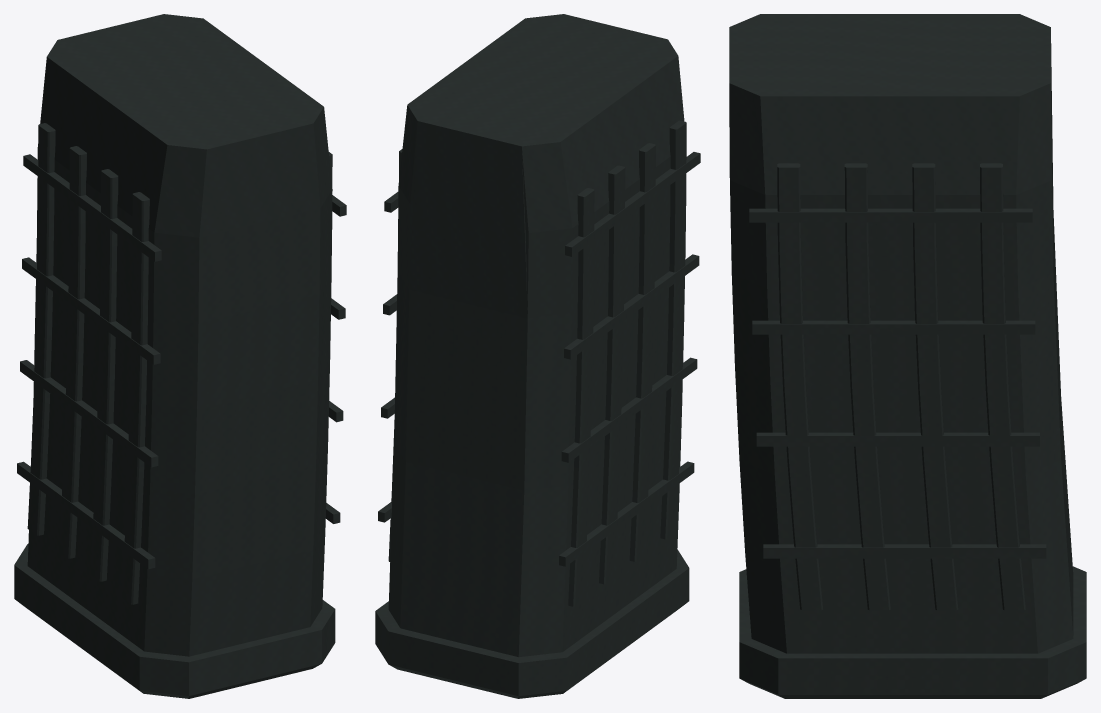
3 renders of one model, left to right at view 1: azimuth 30°, elevation 25°; view 2: azimuth 150°, elevation 25°; view 3: azimuth 270°, elevation 25°, orthographic. The views are drawn at different scales.
Parts seen in each view (by area): view 1: sv98_10_individual_shell, sv98_10_individual_shell.001; view 2: sv98_10_individual_shell, sv98_10_individual_shell.001; view 3: sv98_10_individual_shell, sv98_10_individual_shell.001.
Part boxes in pixels (<box>): sv98_10_individual_shell: <box>14,14,346,698</box>; sv98_10_individual_shell.001: <box>27,235,153,650</box>; sv98_10_individual_shell: <box>375,14,700,698</box>; sv98_10_individual_shell.001: <box>388,121,683,657</box>; sv98_10_individual_shell: <box>729,14,1086,698</box>; sv98_10_individual_shell.001: <box>767,43,1073,653</box>.
Size of the model in its own units: 0.0847 by 0.229 by 0.1245.
Materials: 1 (1 with a texture image).
